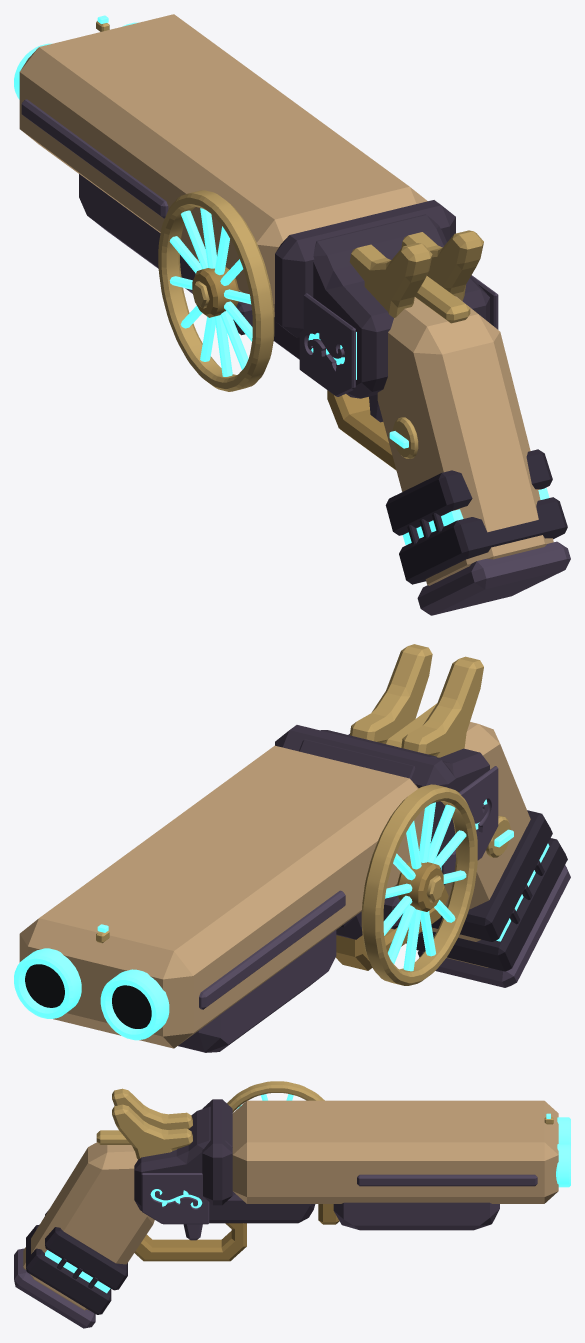
File: w_sawnoff@sawnoff_star.glb
3 views of the same model, one above another, from view 1: azimuth 30°, elevation 25°; view 2: azimuth 150°, elevation 25°; view 3: azimuth 270°, elevation 25° (orthographic). The views are drawn at different scales.
Parts seen in each view (by area): view 1: hinge_wzA, grip_wzA, body_wzA, grip_wzN.001, body_wzB, grip_wzN, body_wzN.001, body_wzN.002, hammerL_wzN, body_wzN.003, forend_wzA, hinge_wzN (+3 smaller); view 2: hinge_wzA, body_wzB, grip_wzN.001, body_wzA, body_wzN.001, forend_wzA, hinge_trim_wzN, grip_wzA, hammerL_wzN, hammerR_wzN, hinge_wzN, hinge_trim_wzN.001 (+4 smaller); view 3: hinge_wzA, grip_wzA, body_wzA, grip_wzN.001, forend_wzA, body_wzN.002, body_wzN.003, hinge_wzN, hammerR_wzN, grip_wzN, hammerL_wzN, body_wzB (+5 smaller).
Boxes of the visible parts, <box> form: hinge_wzA: <box>19,14,427,316</box>; grip_wzA: <box>377,296,553,585</box>; body_wzA: <box>233,200,489,398</box>; grip_wzN.001: <box>385,449,567,584</box>; body_wzB: <box>158,190,274,391</box>; grip_wzN: <box>417,541,570,615</box>; body_wzN.001: <box>169,208,356,379</box>; body_wzN.002: <box>299,275,498,422</box>; hammerL_wzN: <box>349,243,432,317</box>; body_wzN.003: <box>192,267,396,470</box>; forend_wzA: <box>79,174,199,293</box>; hinge_wzN: <box>21,99,168,218</box>; hinge_wzA: <box>19,745,424,1048</box>; body_wzB: <box>361,784,477,985</box>; grip_wzN.001: <box>406,810,567,971</box>; body_wzA: <box>275,725,489,939</box>; body_wzN.001: <box>383,799,487,971</box>; forend_wzA: <box>178,930,336,1052</box>; hinge_trim_wzN: <box>14,924,169,1040</box>; grip_wzA: <box>432,722,530,967</box>; hammerL_wzN: <box>401,656,483,757</box>; hammerR_wzN: <box>350,644,432,743</box>; hinge_wzN: <box>199,890,345,1009</box>; hinge_trim_wzN.001: <box>25,964,151,1028</box>; hinge_wzA: <box>232,1100,558,1203</box>; grip_wzA: <box>23,1142,154,1310</box>; body_wzA: <box>134,1099,315,1223</box>; grip_wzN.001: <box>26,1210,127,1314</box>; forend_wzA: <box>333,1202,499,1230</box>; body_wzN.002: <box>141,1173,209,1240</box>; body_wzN.003: <box>134,1223,246,1261</box>; hinge_wzN: <box>357,1174,537,1186</box>; hammerR_wzN: <box>112,1104,192,1159</box>; grip_wzN: <box>14,1248,95,1328</box>; hammerL_wzN: <box>112,1088,192,1129</box>; body_wzB: <box>227,1081,324,1112</box>.
Bounding box in the file's own units: 0.1323 × 0.2046 × 0.4751.
